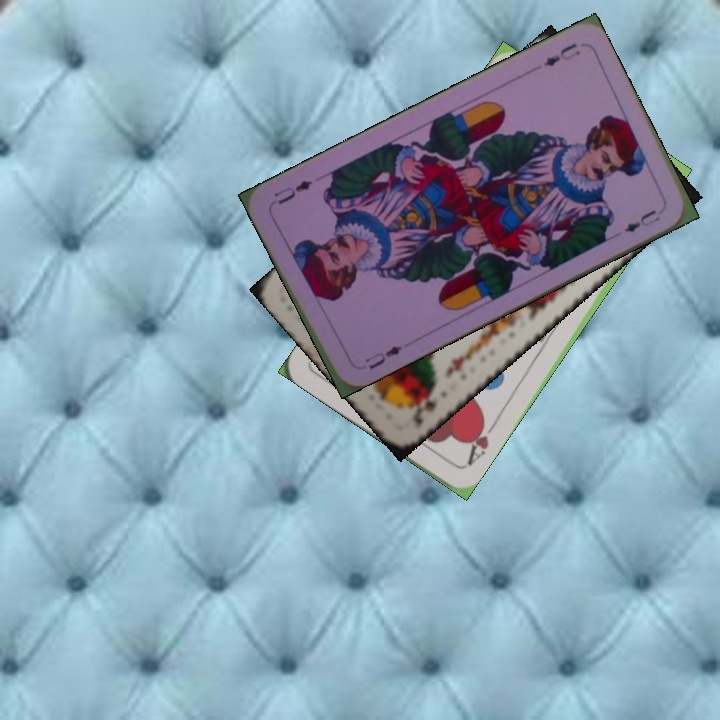EU: (539, 39, 584, 70), (361, 341, 405, 372)
HA: (463, 414, 500, 469)
SK: (407, 383, 440, 429)
